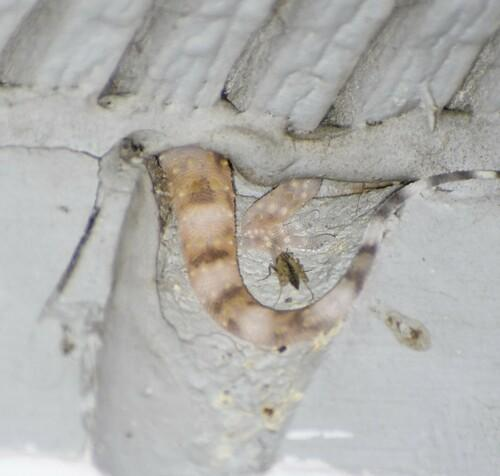lizard: (164, 134, 493, 360)
